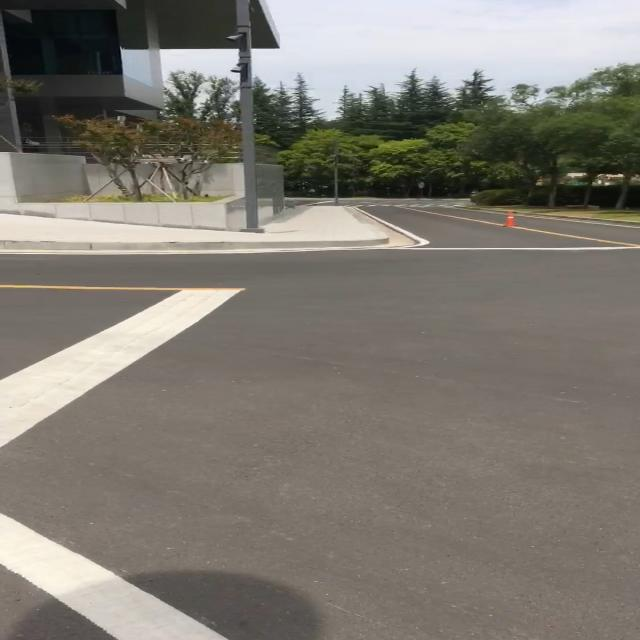obstacle: (231, 0, 274, 232), (492, 209, 523, 226)
road: (0, 201, 640, 640)
sidewalk: (0, 205, 401, 254)
